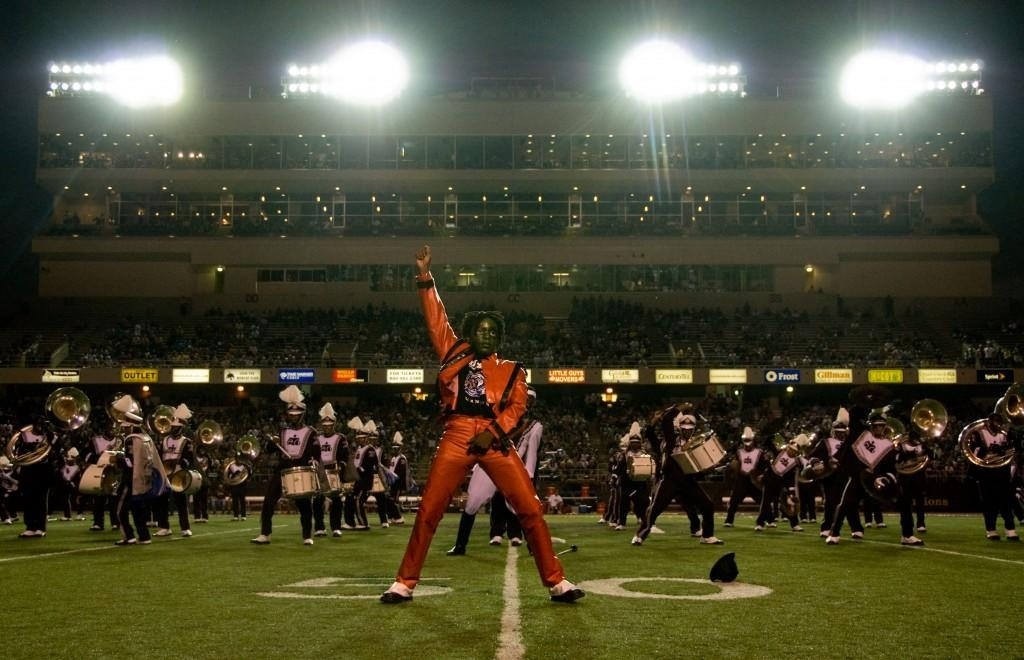human_face: (472, 317, 496, 352), (990, 418, 1002, 428), (870, 423, 882, 432), (32, 419, 42, 429), (290, 410, 298, 420), (322, 423, 330, 433), (682, 427, 690, 437), (631, 438, 639, 448), (788, 447, 796, 457), (834, 430, 844, 438), (910, 434, 918, 444), (104, 426, 112, 434), (172, 424, 180, 432), (122, 423, 128, 432), (356, 436, 364, 442), (745, 439, 751, 447), (392, 446, 396, 452), (66, 460, 72, 464), (370, 438, 374, 442)
